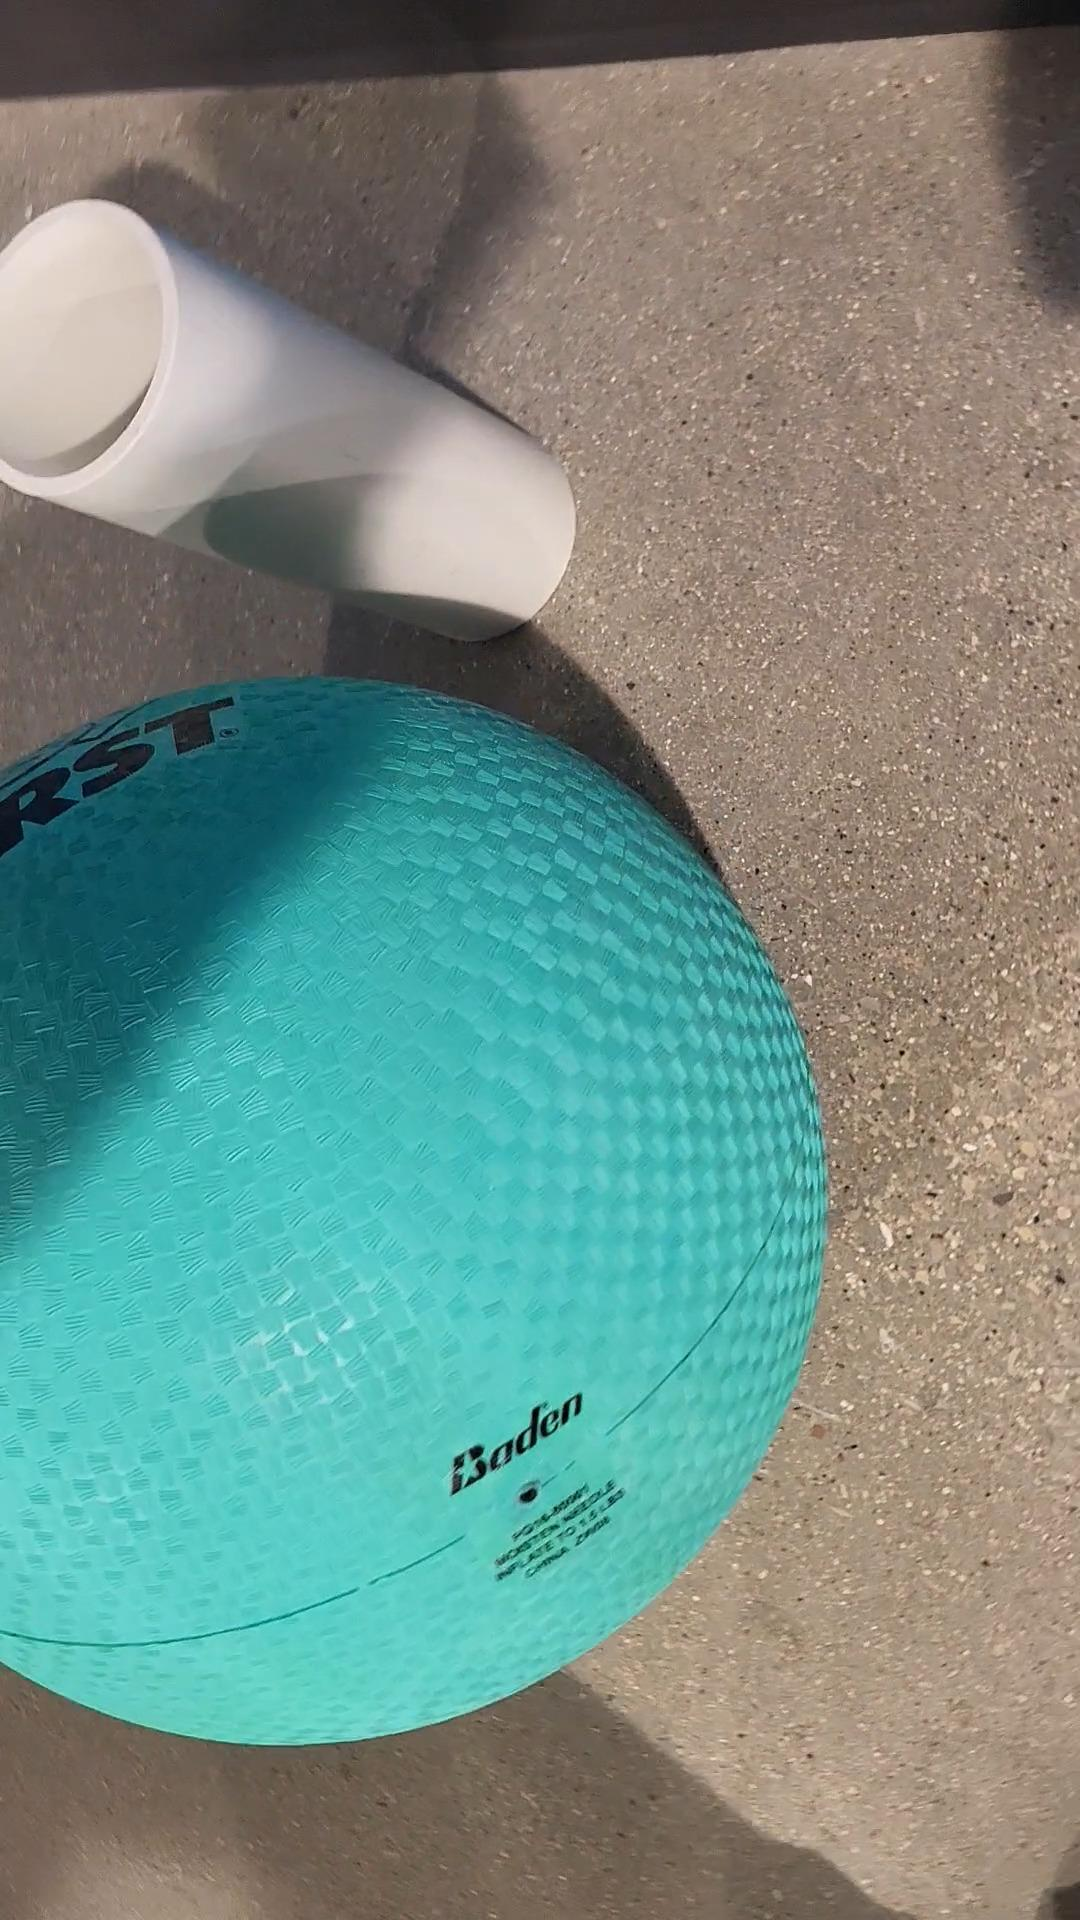algae: (0, 675, 825, 1747)
coral: (0, 193, 575, 633)
